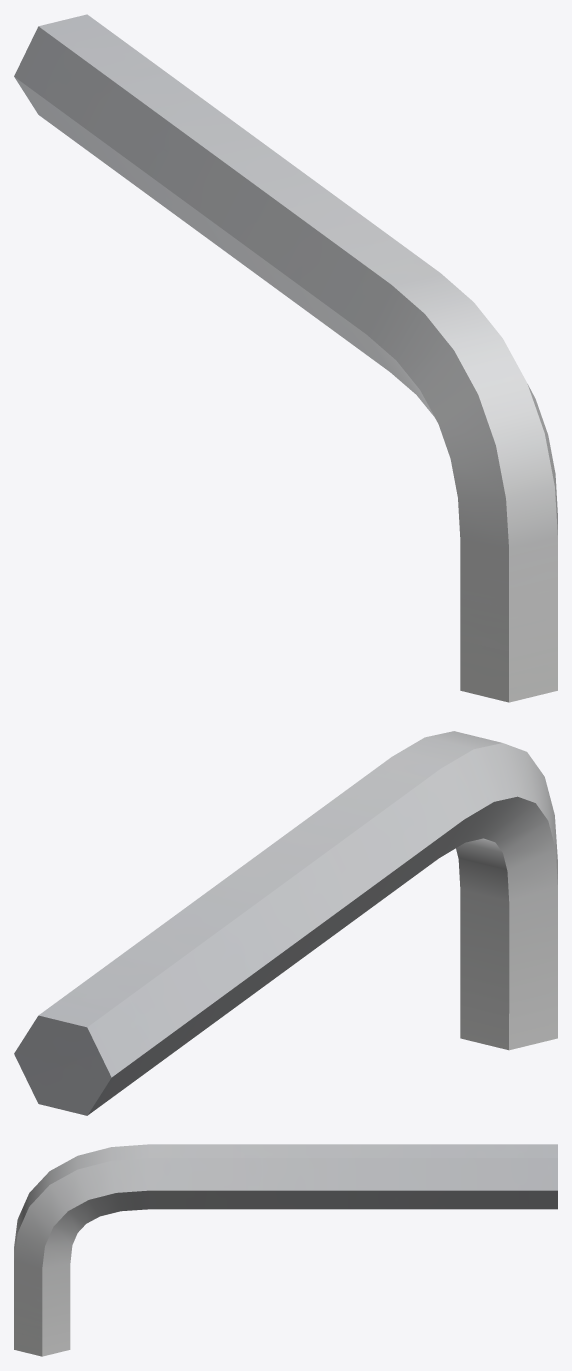
The model's file is allen.fbx.
The picture shows the model from 3 angles, top to bottom: view 1: azimuth 30°, elevation 25°; view 2: azimuth 150°, elevation 25°; view 3: azimuth 270°, elevation 25°; orthographic projection. The views are drawn at different scales.
Visible parts, largest first — view 1: allen; view 2: allen; view 3: allen.
Boxes of the visible parts, bbox=[...] form: allen: bbox=[14, 14, 557, 702]; allen: bbox=[14, 731, 557, 1115]; allen: bbox=[14, 1144, 557, 1356].
Bounding box in the file's own units: 0.064 × 0.5342 × 0.2077.
